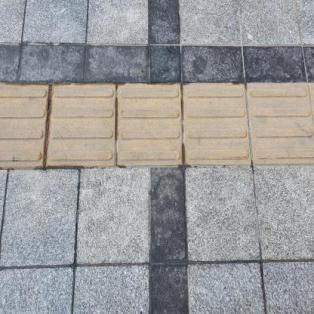Podoctatil: (0, 76, 313, 174)
